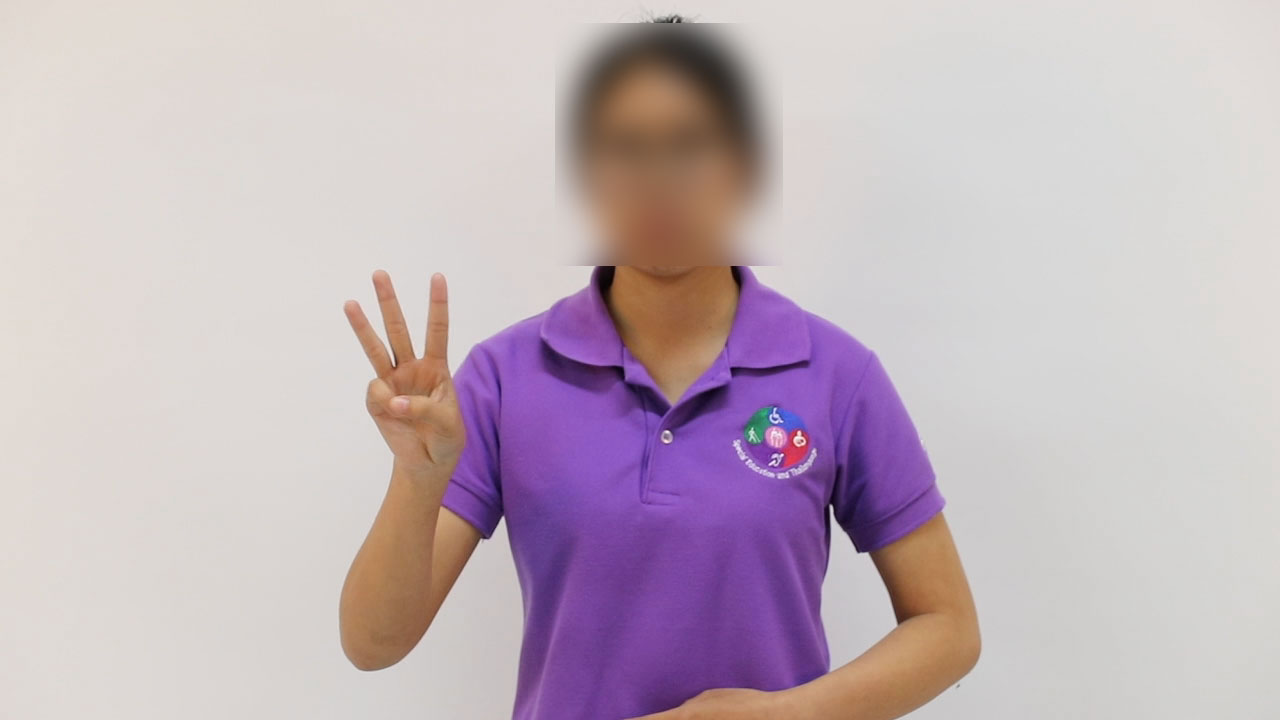wor: (334, 259, 472, 493)
